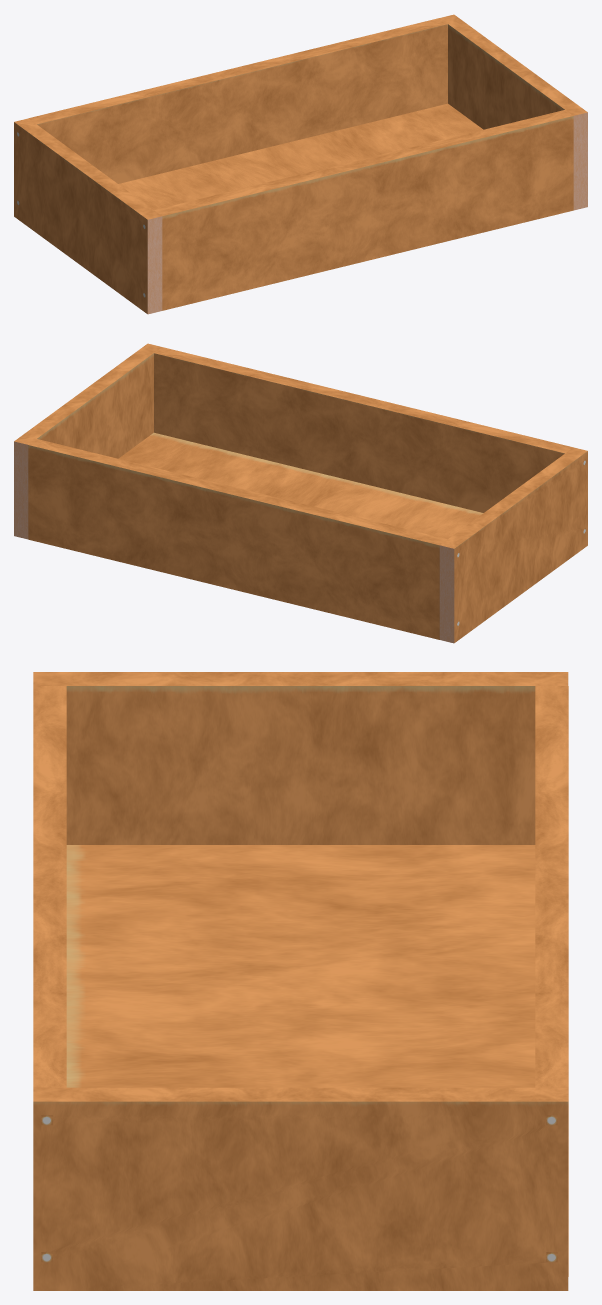
Rendered from Container_3.fbx.
3 views of the same model, one above another, from view 1: azimuth 30°, elevation 25°; view 2: azimuth 150°, elevation 25°; view 3: azimuth 270°, elevation 25° (orthographic). The views are drawn at different scales.
Parts seen in each view (by area): view 1: Container_3; view 2: Container_3; view 3: Container_3.
Boxes of the visible parts, <box> form: Container_3: <box>14,14,587,314</box>; Container_3: <box>14,343,587,643</box>; Container_3: <box>33,672,568,1290</box>.
Size of the model in its own units: 1.09 by 0.2238 by 0.5737.
